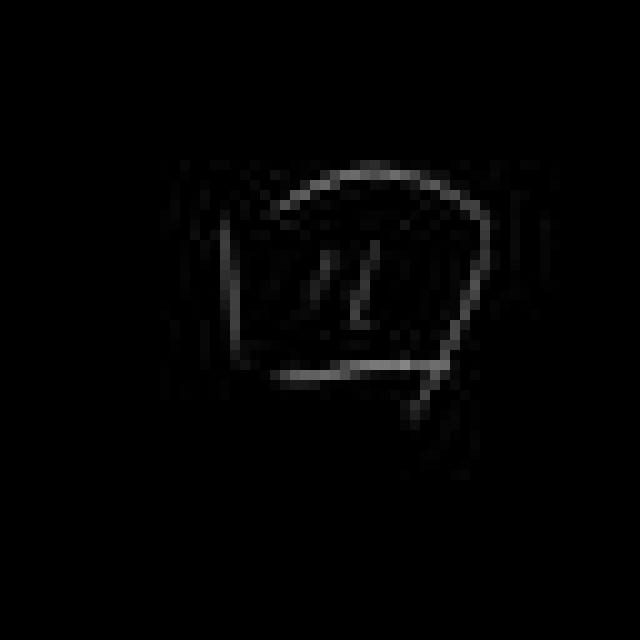4 -four-: (202, 153, 500, 408)
